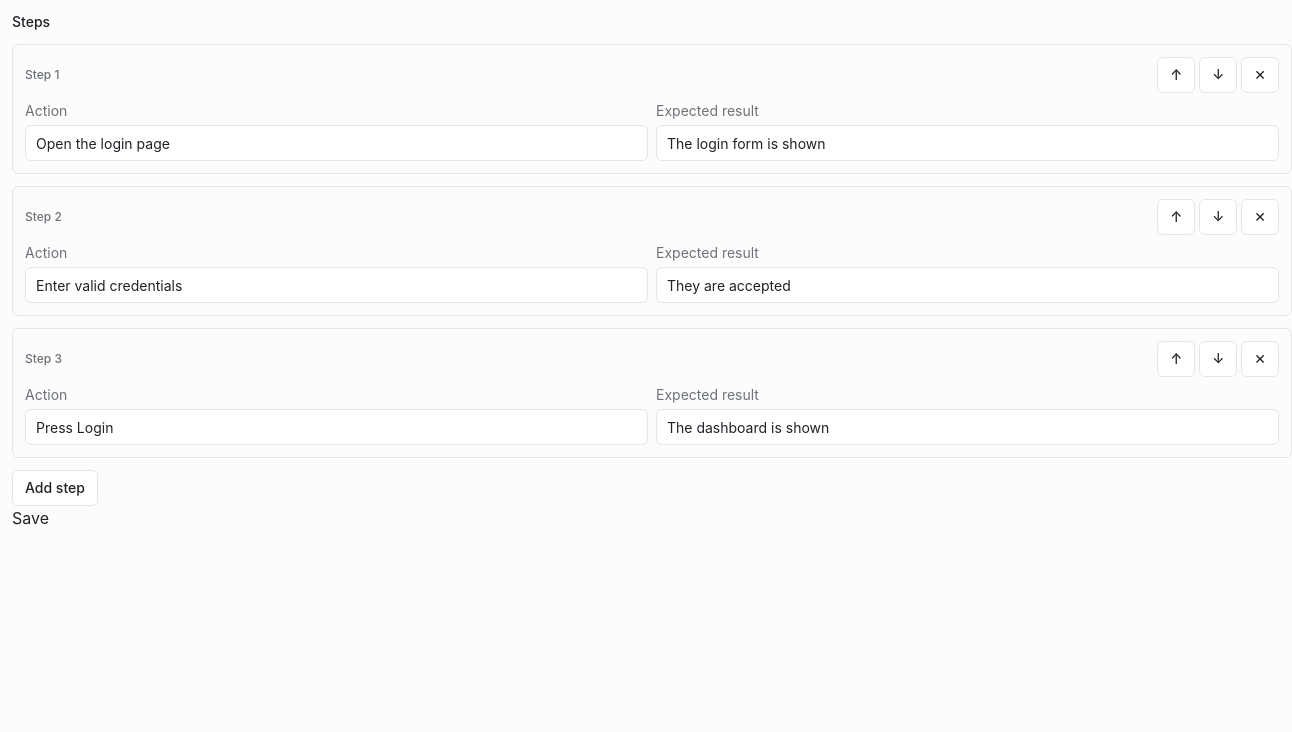
Test: TestStepEditor › adds an empty step at the end
Step 1. Click the button "Add step" → (55, 488), box [12,470,98,506]
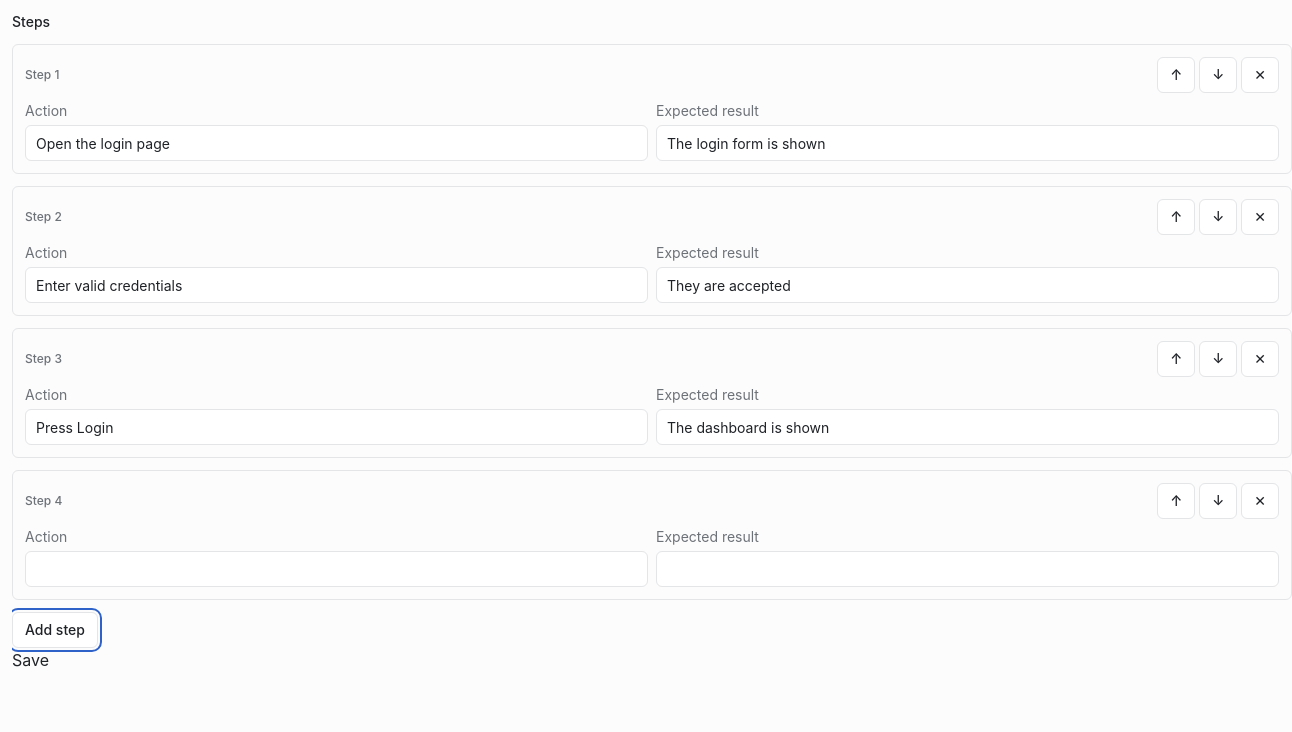
Now the text "Step 4" is shown, box [25,493,62,509]
